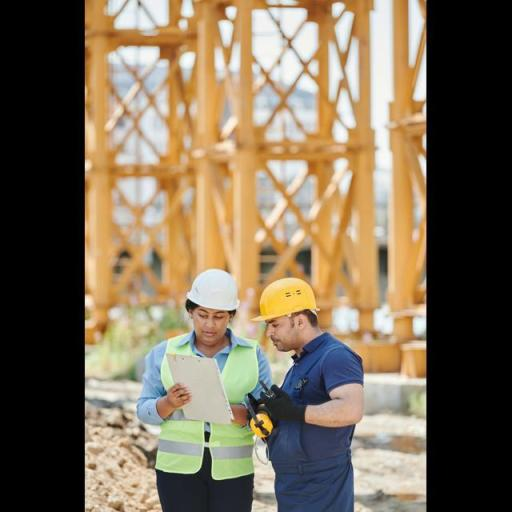Person: (239, 264, 376, 504), (140, 259, 260, 510)
gloves: (234, 380, 308, 428), (250, 381, 318, 424)
helmet: (176, 256, 250, 324), (245, 278, 323, 324)
vest: (254, 332, 378, 510), (142, 329, 259, 488)
